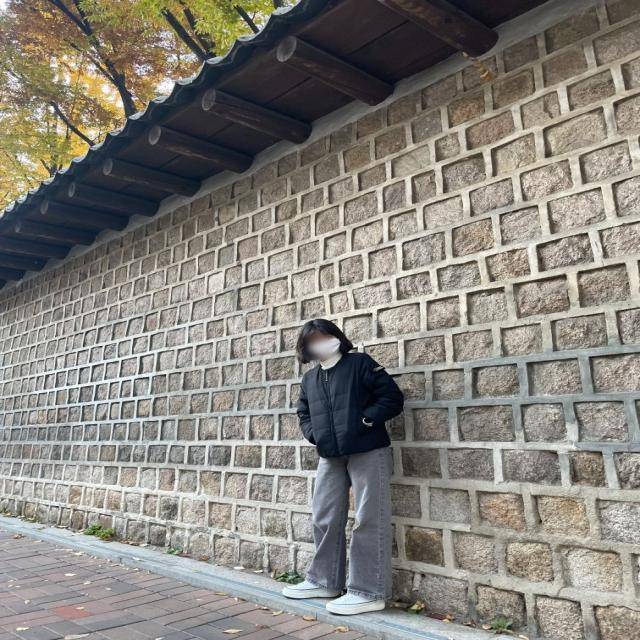denimpants: (308, 442, 392, 601)
padding: (296, 356, 404, 453)
